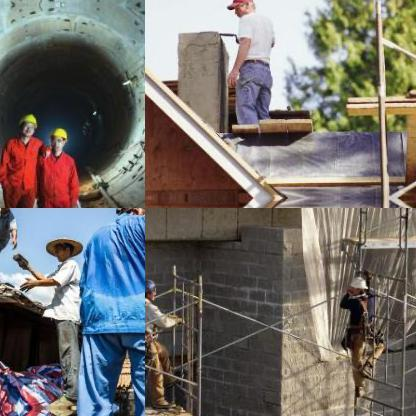Helmet: (343, 273, 369, 299), (226, 0, 256, 18), (46, 126, 66, 150), (17, 113, 35, 137), (114, 208, 144, 220), (145, 275, 158, 297)
